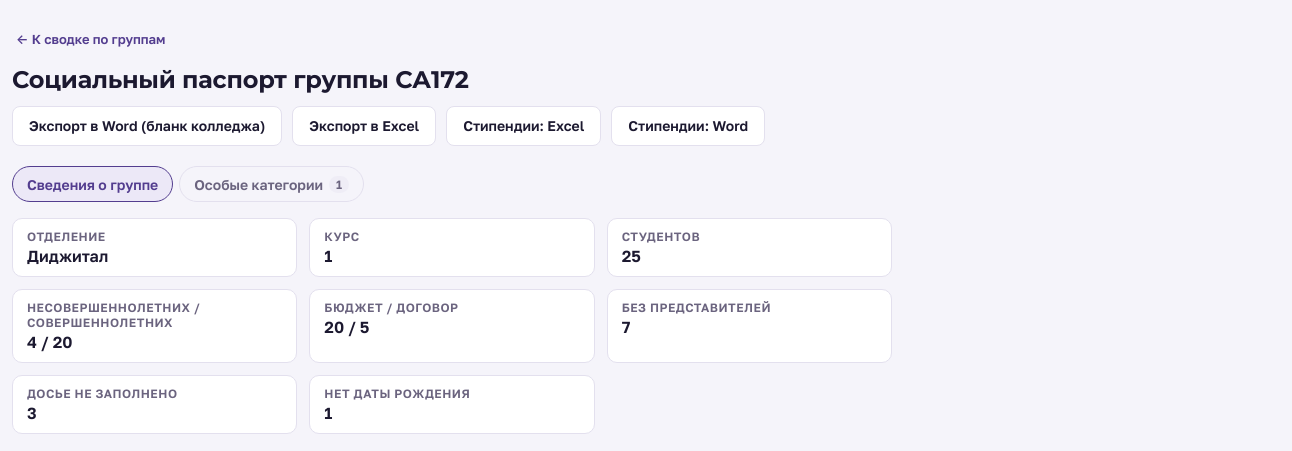
Scenario: PassportPage — паспорт группы › «К сводке» возвращает к таблице групп
Click the button "← К сводке по группам" at (91, 39), box [12, 29, 169, 49]
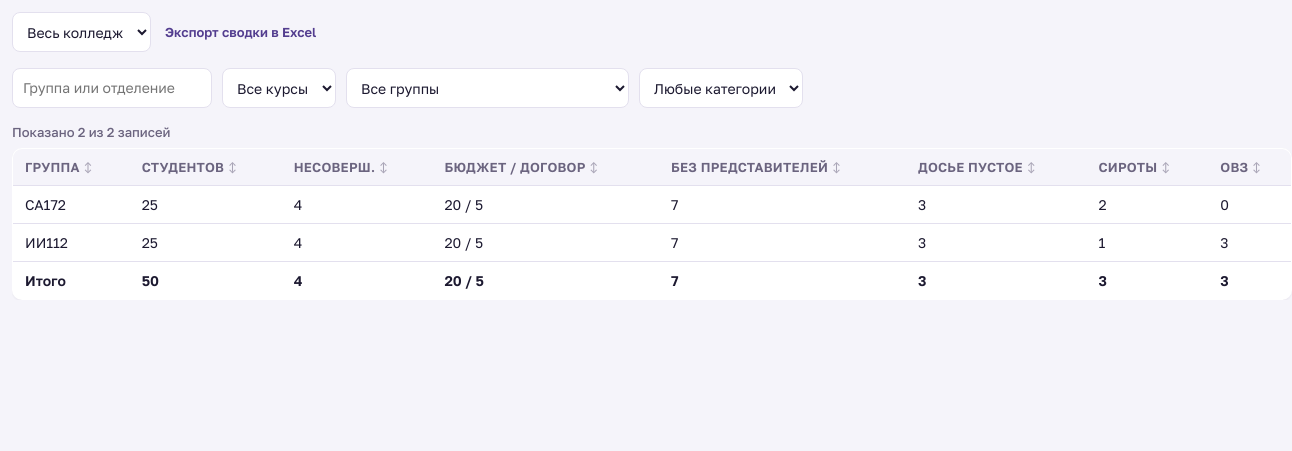
Expected: the cell "ИИ112" is shown, [12, 224, 130, 262]
